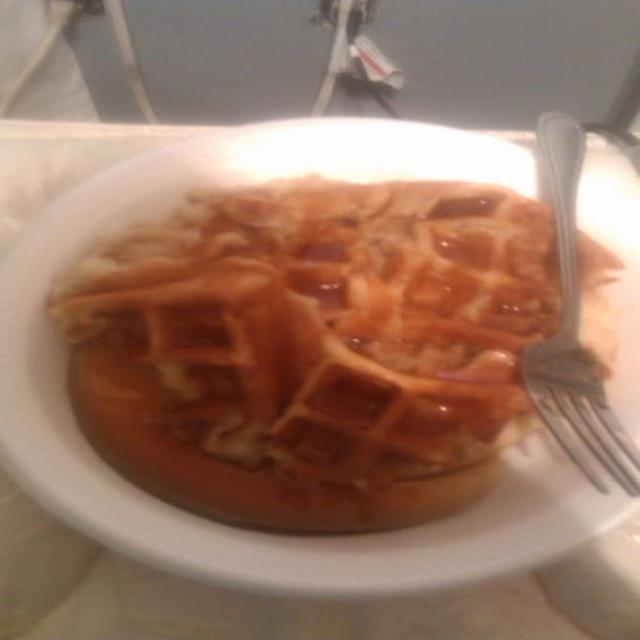炸货点心: (34, 106, 626, 564)
蛋糕甜品: (34, 106, 626, 564)
